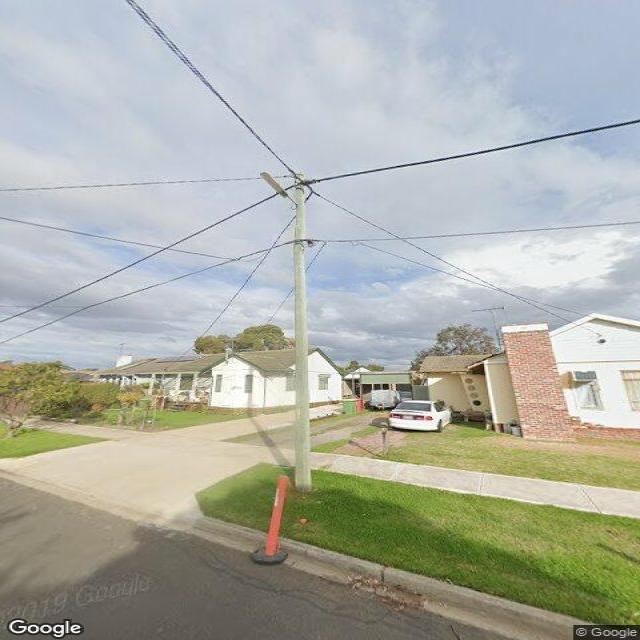streetlight: (256, 171, 298, 204)
timber-pole: (290, 182, 314, 488)
